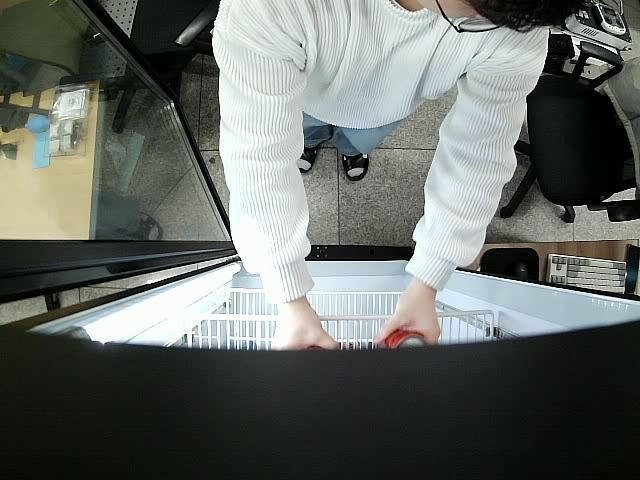11_cocaColaZero: (380, 328, 428, 352)
